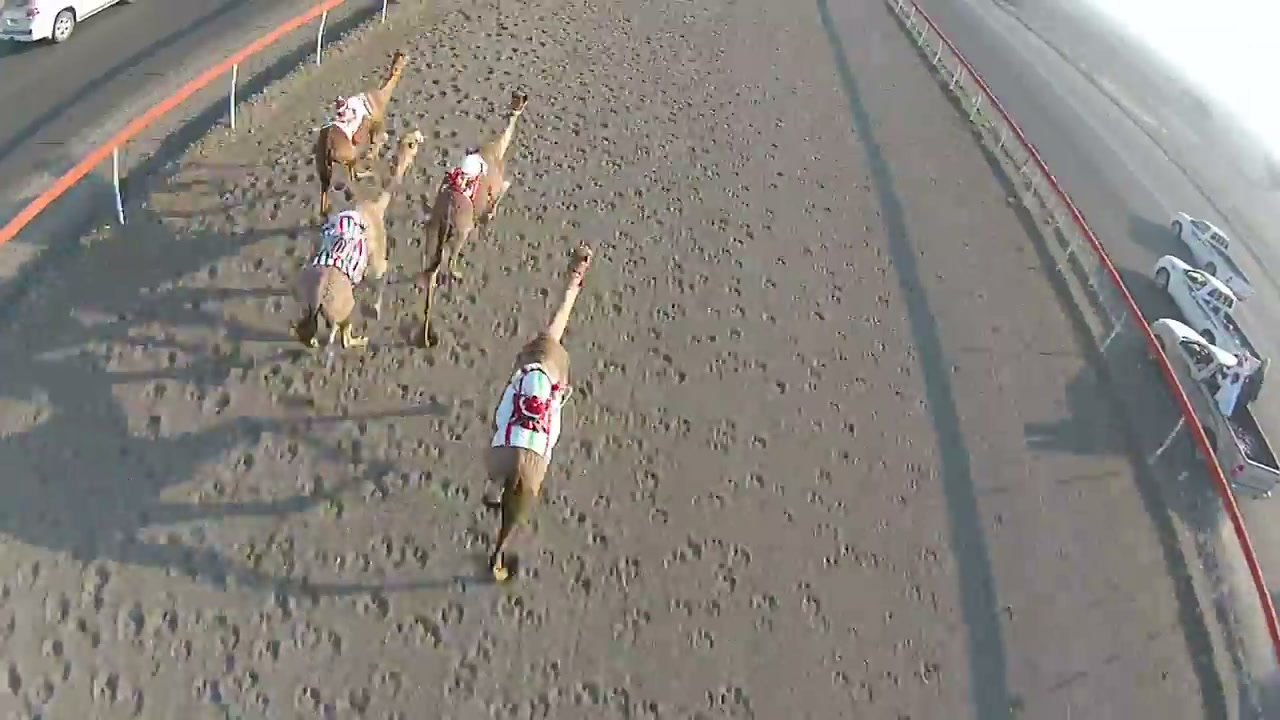animal_footprint: (24, 235, 508, 713), (506, 16, 820, 700)
